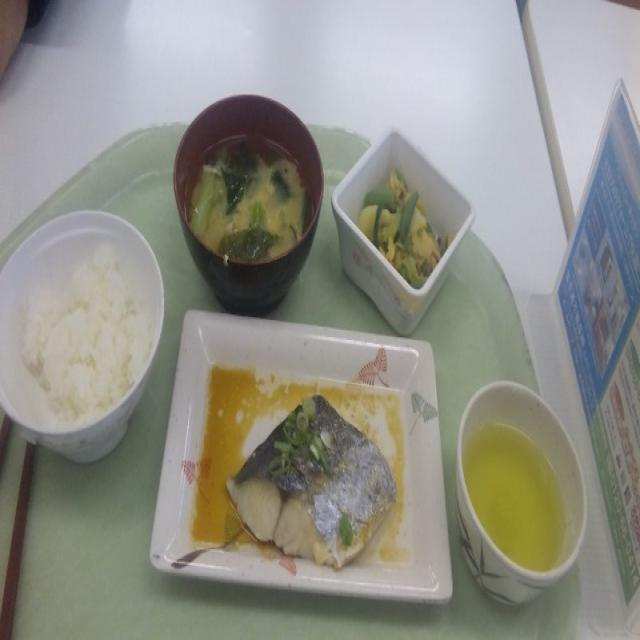Rice: (10, 252, 156, 412)
